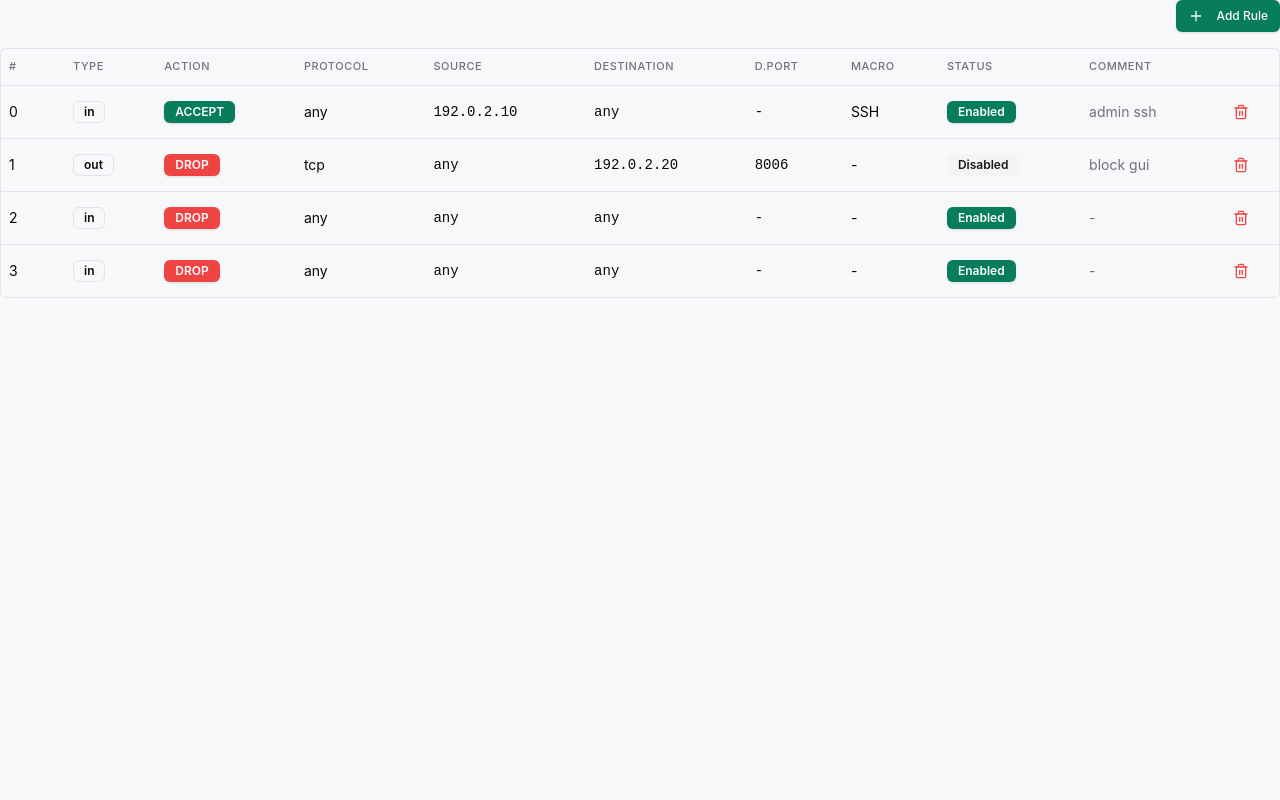
it: FirewallRulesTable — deleting a rule › asks first, naming the rule at that position, and sends nothing
Click the button named "Delete rule 1" at (1241,164), box [1223,146,1259,182]
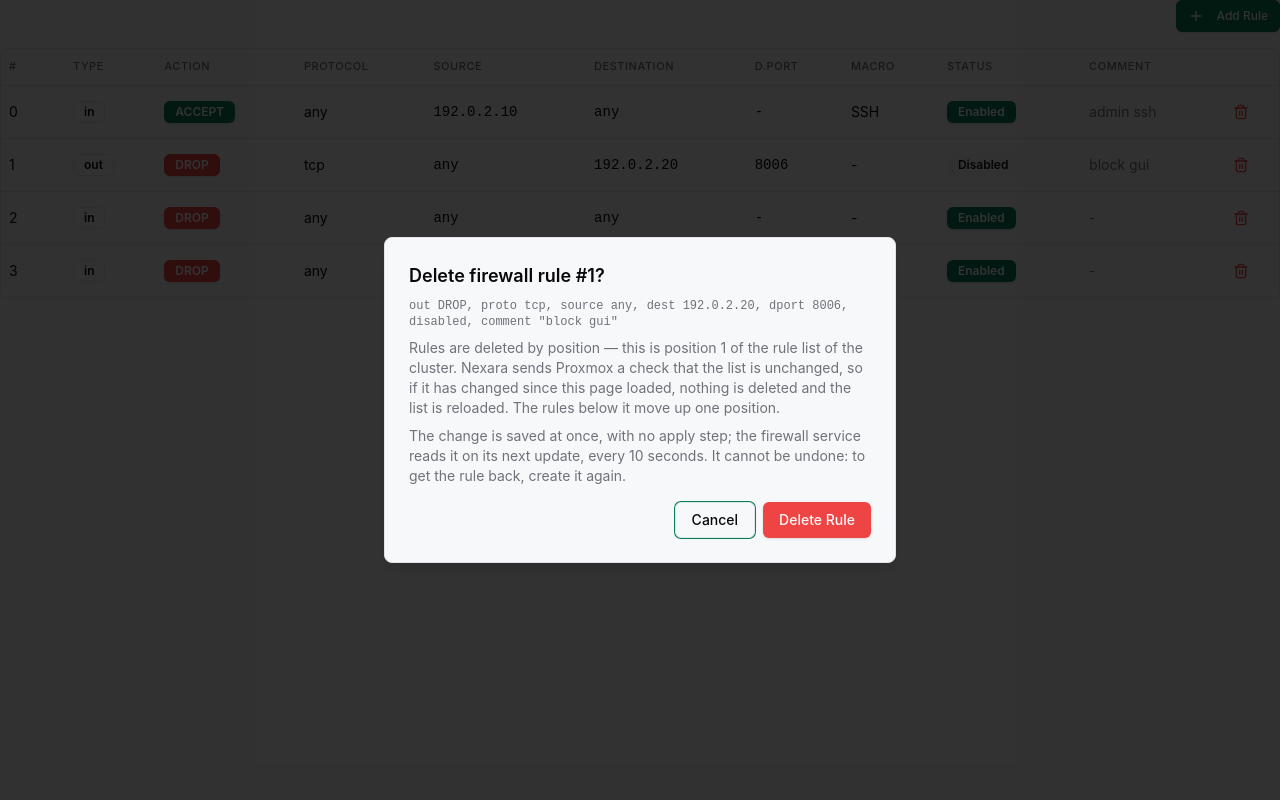
Expected: the heading "Delete firewall rule #1?" is shown, [409,265,605,286]
Expected: the dialog shows "out DROP, proto tcp, source any, dest 192.0.2.20, dport 8006, disabled, comment \"block gui\"", [409,299,848,329]
Expected: the dialog shows "Rules are deleted by position — this is position 1 of the rule list of the cluster. Nexara sends Proxmox a check that the list is unchanged", [384,237,896,563]
